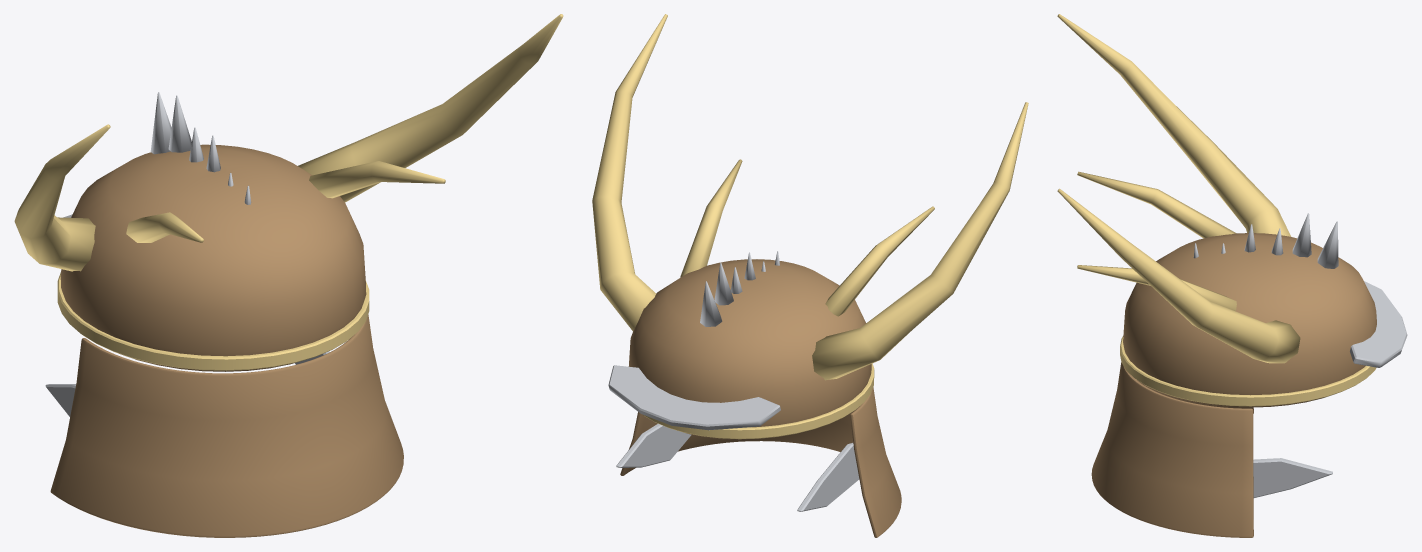
Rendered from helm_drache2.glb.
The picture shows the model from 3 angles, left to right: view 1: azimuth 30°, elevation 25°; view 2: azimuth 150°, elevation 25°; view 3: azimuth 270°, elevation 25°; orthographic projection. The views are drawn at different scales.
Visible parts, largest first — view 1: G_helm_drache2; view 2: G_helm_drache2; view 3: G_helm_drache2.
Boxes of the visible parts, x1=… form: G_helm_drache2: x1=14, y1=14, x2=563, y2=537; G_helm_drache2: x1=592, y1=14, x2=1028, y2=537; G_helm_drache2: x1=1057, y1=14, x2=1407, y2=537.
Size of the model in its own units: 0.4686 by 0.4307 by 0.3646.
